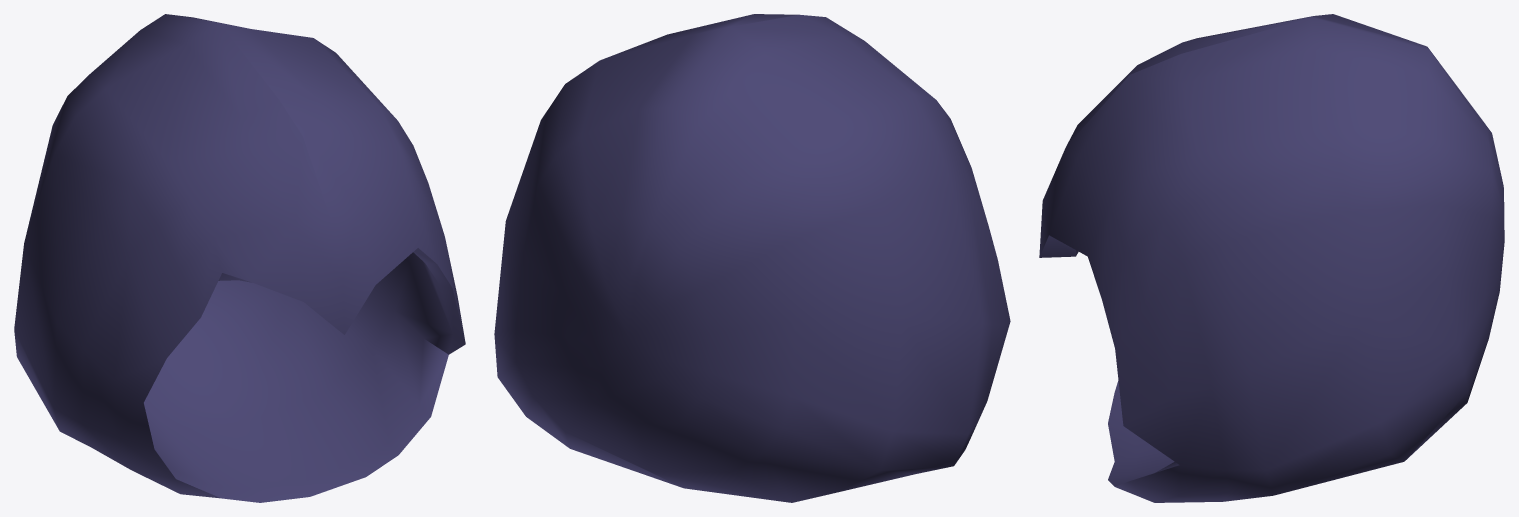
The model's file is Ghost.fbx.
3 renders of one model, left to right at view 1: azimuth 30°, elevation 25°; view 2: azimuth 150°, elevation 25°; view 3: azimuth 270°, elevation 25°, orthographic. The views are drawn at different scales.
Visible parts, largest first — view 1: skeleton_hood; view 2: skeleton_hood; view 3: skeleton_hood.
Boxes of the visible parts, <box> form: skeleton_hood: <box>14,14,465,502</box>; skeleton_hood: <box>494,14,1010,502</box>; skeleton_hood: <box>1039,14,1504,502</box>.
Size of the model in its own units: 168 by 162 by 172.
